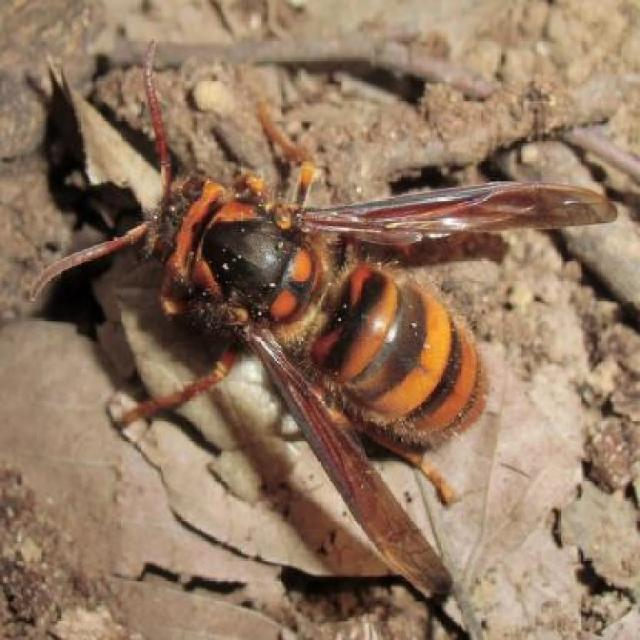Wasp: (29, 30, 623, 614)
